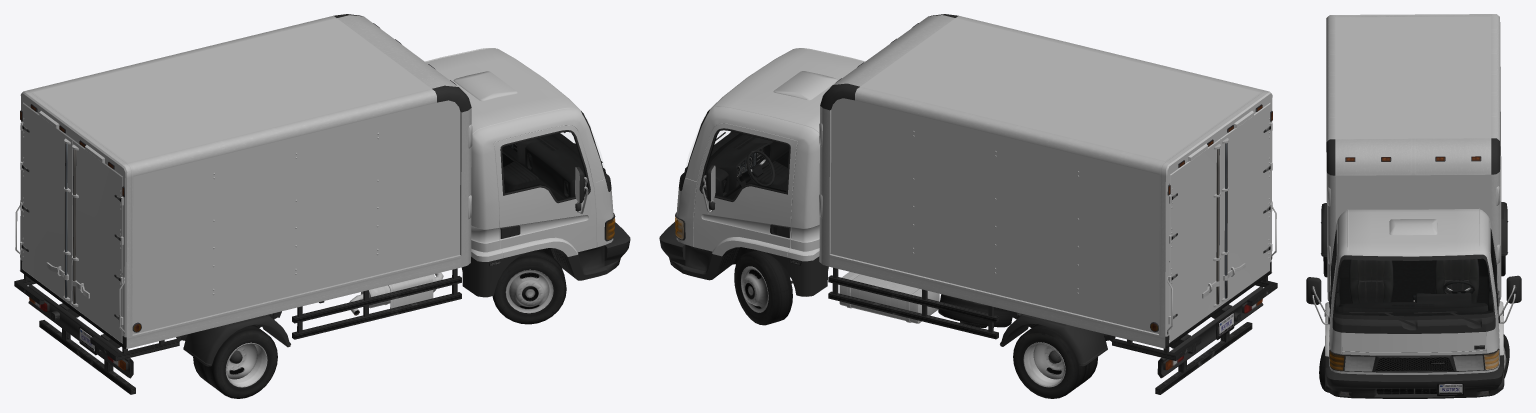
File: cargotruck.glb
3 views of the same model, side by side, from view 1: azimuth 30°, elevation 25°; view 2: azimuth 150°, elevation 25°; view 3: azimuth 270°, elevation 25° (orthographic). The views are drawn at different scales.
Parts seen in each view (by area): view 1: Cargo_box_bodycolor_0, Cargo_box_Frame_UCB_BOTTOM_0, body_bodycolor_0, Cargodoor_left_bodycolor_0, Cargodoor_right_bodycolor_0, Frame, Door_Right_bodycolor_0, Dashboard_GEN4DR_INTERIOR_0, Bottom_UCB_BOTTOM_0, wheel_RR_tier_1o_0, wheel_FR_tier_1o_0, wheel_FR_wheel_truck_stamp_0 (+8 smaller); view 2: Cargo_box_bodycolor_0, Cargo_box_Frame_UCB_BOTTOM_0, body_bodycolor_0, Cargodoor_right_bodycolor_0, Cargodoor_left_bodycolor_0, Frame, Door_Left_bodycolor_0, Bottom_UCB_BOTTOM_0, wheel_RL_tier_1o_0, Dashboard_GEN4DR_INTERIOR_0, wheel_FL_tier_1o_0, Bottom_stuff_UCB_BOTTOM_0 (+9 smaller); view 3: Cargo_box_bodycolor_0, body_bodycolor_0, Cargo_box_Frame_UCB_BOTTOM_0, Bumper_front_UCB_BOTTOM_0, Windshield_trim_UCB_BOTTOM_0, Seats_GEN4DR_INTERIOR_0, Interior_GEN4DR_INTERIOR_0, Dashboard_GEN4DR_INTERIOR_0, Headlights_UCB_BOTTOM_0, Grill_UCB_BOTTOM_0, Headlights_Glass_krmlgtbdy85_headlights_0, Frame (+12 smaller).
Boxes of the visible parts, left/top/right/bottom form: Cargo_box_bodycolor_0: left=20, top=18, right=460, bottom=337; Cargo_box_Frame_UCB_BOTTOM_0: left=15, top=14, right=472, bottom=349; body_bodycolor_0: left=425, top=48, right=613, bottom=261; Cargodoor_left_bodycolor_0: left=22, top=102, right=72, bottom=305; Cargodoor_right_bodycolor_0: left=72, top=139, right=122, bottom=343; Frame: left=14, top=268, right=461, bottom=394; Door_Right_bodycolor_0: left=493, top=125, right=596, bottom=258; Dashboard_GEN4DR_INTERIOR_0: left=502, top=134, right=587, bottom=198; Bottom_UCB_BOTTOM_0: left=461, top=245, right=606, bottom=297; wheel_RR_tier_1o_0: left=193, top=324, right=277, bottom=398; wheel_FR_tier_1o_0: left=492, top=250, right=566, bottom=324; wheel_FR_wheel_truck_stamp_0: left=505, top=269, right=553, bottom=313; Cargo_box_bodycolor_0: left=830, top=18, right=1272, bottom=336; Cargo_box_Frame_UCB_BOTTOM_0: left=819, top=14, right=1276, bottom=348; body_bodycolor_0: left=676, top=48, right=865, bottom=261; Cargodoor_right_bodycolor_0: left=1219, top=103, right=1270, bottom=306; Cargodoor_left_bodycolor_0: left=1169, top=139, right=1220, bottom=343; Frame: left=828, top=267, right=1277, bottom=394; Door_Left_bodycolor_0: left=693, top=123, right=797, bottom=257; Bottom_UCB_BOTTOM_0: left=683, top=244, right=828, bottom=296; wheel_RL_tier_1o_0: left=1013, top=324, right=1097, bottom=398; Dashboard_GEN4DR_INTERIOR_0: left=703, top=133, right=788, bottom=197; wheel_FL_tier_1o_0: left=734, top=250, right=792, bottom=325; Bottom_stuff_UCB_BOTTOM_0: left=839, top=271, right=986, bottom=327; Cargo_box_bodycolor_0: left=1335, top=16, right=1491, bottom=224; body_bodycolor_0: left=1325, top=208, right=1503, bottom=374; Cargo_box_Frame_UCB_BOTTOM_0: left=1326, top=14, right=1501, bottom=300; Bumper_front_UCB_BOTTOM_0: left=1325, top=366, right=1503, bottom=398; Windshield_trim_UCB_BOTTOM_0: left=1332, top=254, right=1495, bottom=333; Seats_GEN4DR_INTERIOR_0: left=1348, top=259, right=1479, bottom=303; Interior_GEN4DR_INTERIOR_0: left=1334, top=258, right=1493, bottom=316; Dashboard_GEN4DR_INTERIOR_0: left=1338, top=293, right=1487, bottom=314; Headlights_UCB_BOTTOM_0: left=1329, top=349, right=1499, bottom=371; Grill_UCB_BOTTOM_0: left=1330, top=348, right=1498, bottom=372; Headlights_Glass_krmlgtbdy85_headlights_0: left=1345, top=355, right=1483, bottom=371; Frame: left=1321, top=202, right=1508, bottom=256.
Bounding box in the file's own units: 237 × 112 × 103.
Materials: 9 (8 with a texture image).
